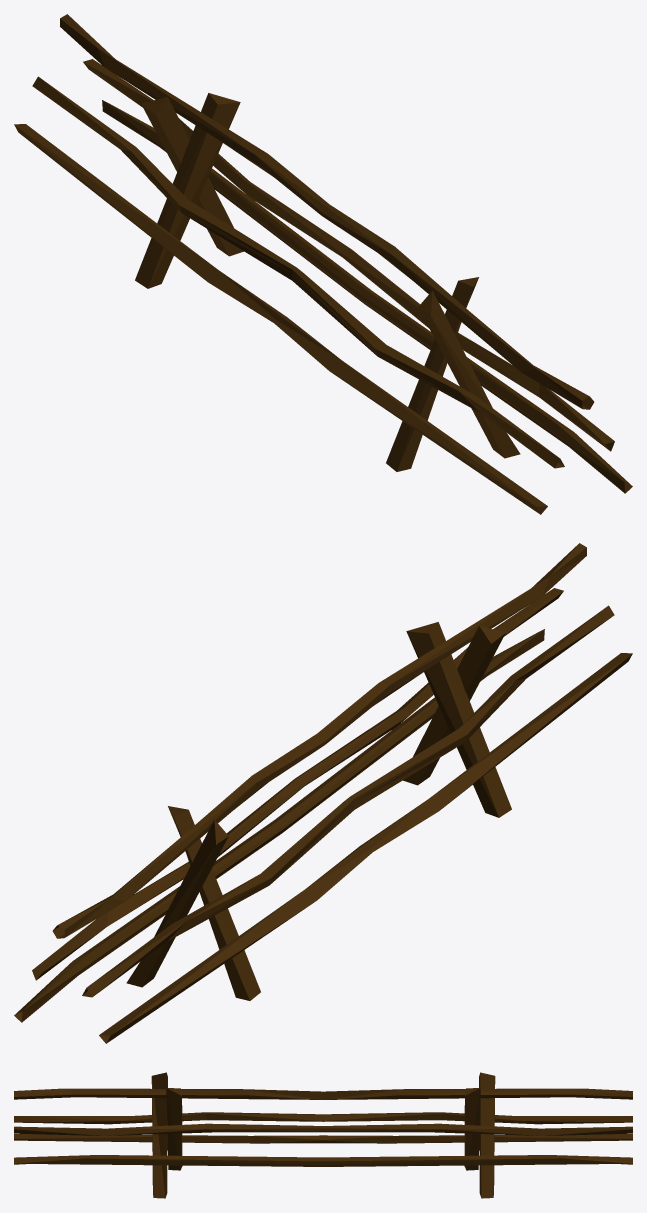
Rendered from en_Fence.FBX.
The picture shows the model from 3 angles, top to bottom: view 1: azimuth 30°, elevation 25°; view 2: azimuth 150°, elevation 25°; view 3: azimuth 270°, elevation 25°; orthographic projection. The views are drawn at different scales.
Parts seen in each view (by area): view 1: mesh_Fence; view 2: mesh_Fence; view 3: mesh_Fence.
Part boxes in pixels (x1,y1,x2,y2): mesh_Fence: (14,14,632,514); mesh_Fence: (14,543,632,1043); mesh_Fence: (14,1072,632,1198).
Size of the model in its own units: 3.13 by 25.02 by 4.61.
